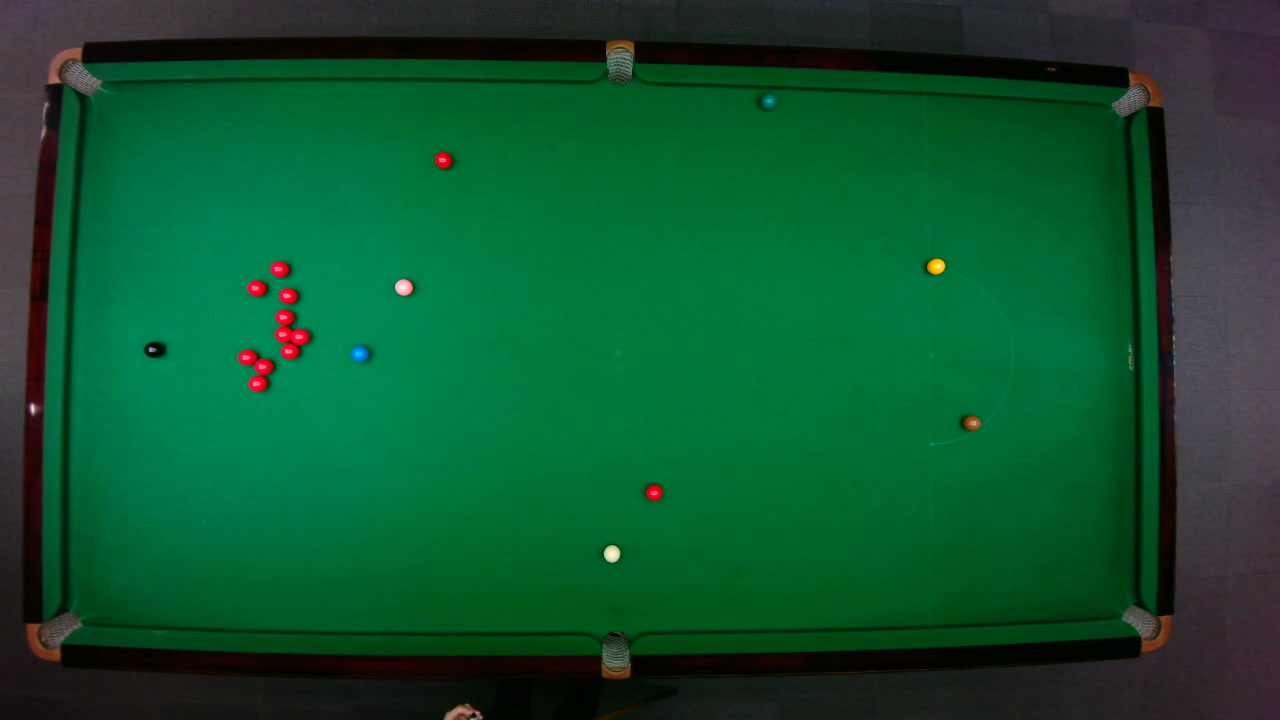bag: (24, 609, 83, 662), (45, 46, 102, 96), (1119, 603, 1171, 652), (1108, 71, 1161, 117), (600, 629, 630, 680), (605, 38, 633, 85)
black: (142, 340, 164, 357)
blue: (349, 344, 370, 362)
brown: (961, 414, 981, 431)
green: (759, 92, 776, 110)
pink: (393, 277, 413, 296)
red: (287, 326, 310, 345), (236, 347, 258, 366), (252, 356, 274, 375), (245, 278, 267, 296), (246, 374, 268, 392), (433, 150, 453, 169), (269, 259, 290, 277), (273, 307, 294, 325), (277, 286, 298, 304), (644, 482, 663, 501), (279, 342, 300, 359), (273, 325, 293, 342)
white: (601, 543, 621, 562)
yellow: (925, 257, 946, 274)
zone: (927, 265, 1014, 444)
